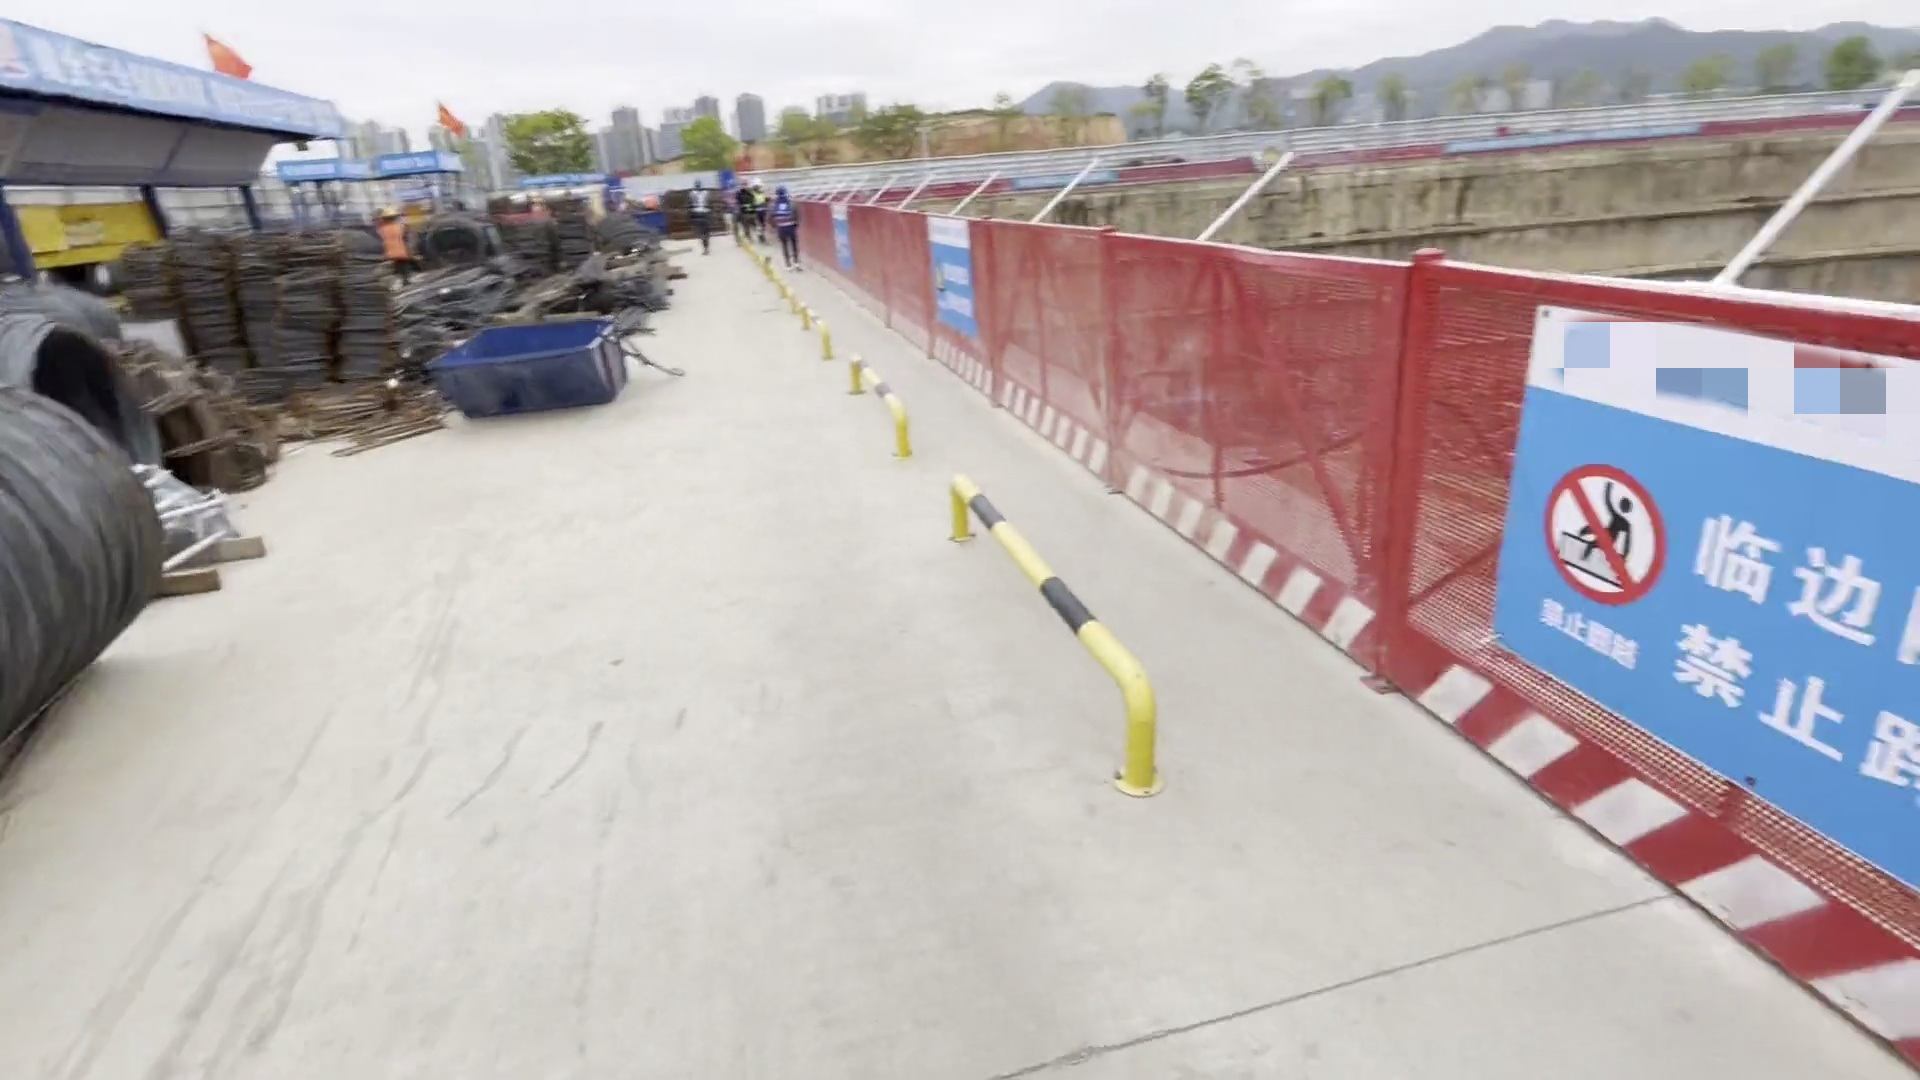fence: (815, 208, 1508, 735)
helmet: (381, 206, 400, 220), (774, 188, 789, 199)
hopper: (425, 311, 633, 424)
person: (371, 207, 408, 285), (771, 187, 805, 270), (686, 177, 713, 252), (753, 180, 767, 243)
slogan: (1492, 403, 1920, 868), (920, 223, 979, 336), (828, 202, 856, 276)
vest: (772, 199, 795, 236), (379, 223, 402, 258)
